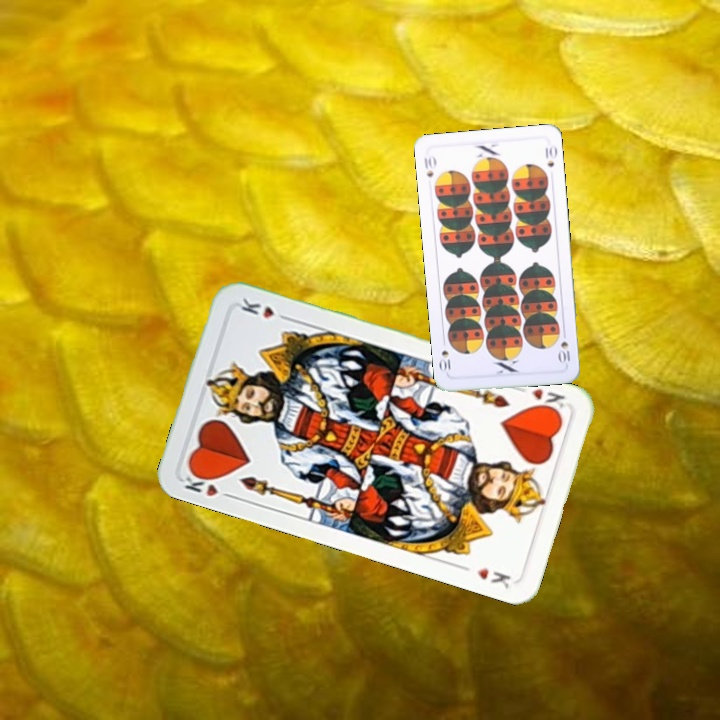HK: (180, 465, 237, 501), (512, 382, 568, 416)
S10: (420, 152, 438, 180), (555, 337, 572, 366)
